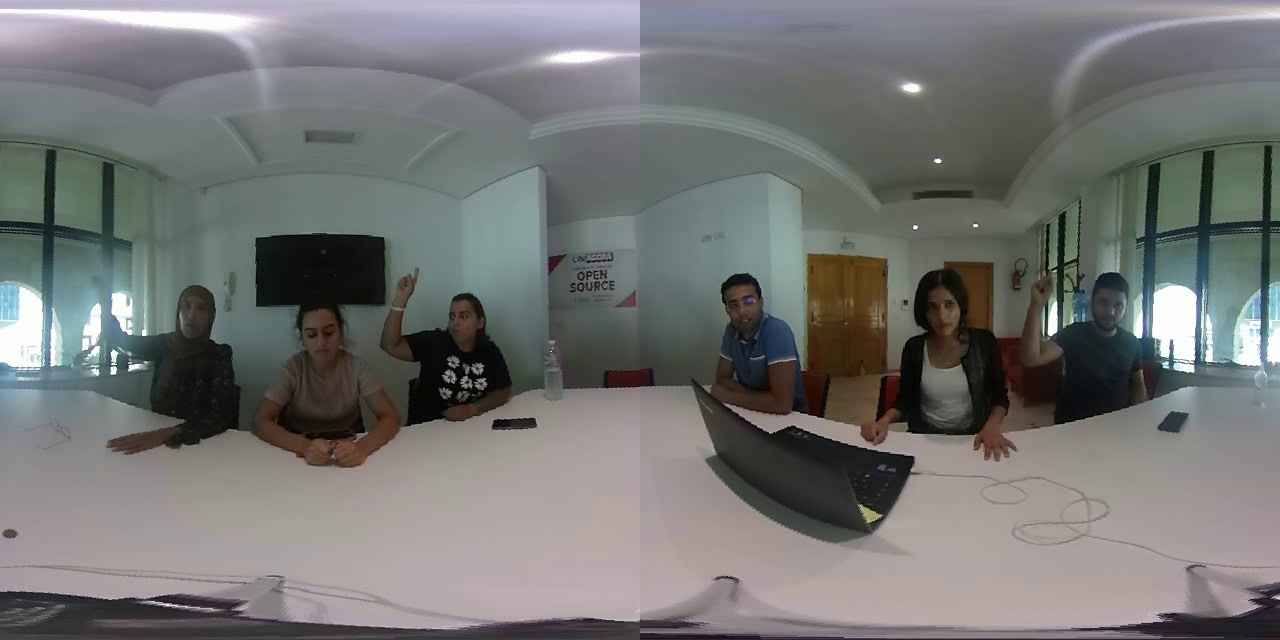hand_up: (373, 262, 427, 360), (1016, 270, 1066, 372), (77, 269, 133, 359)
person: (76, 265, 242, 453), (854, 267, 1014, 452), (251, 292, 401, 472), (1015, 260, 1165, 417), (374, 259, 519, 421), (696, 265, 801, 417)
